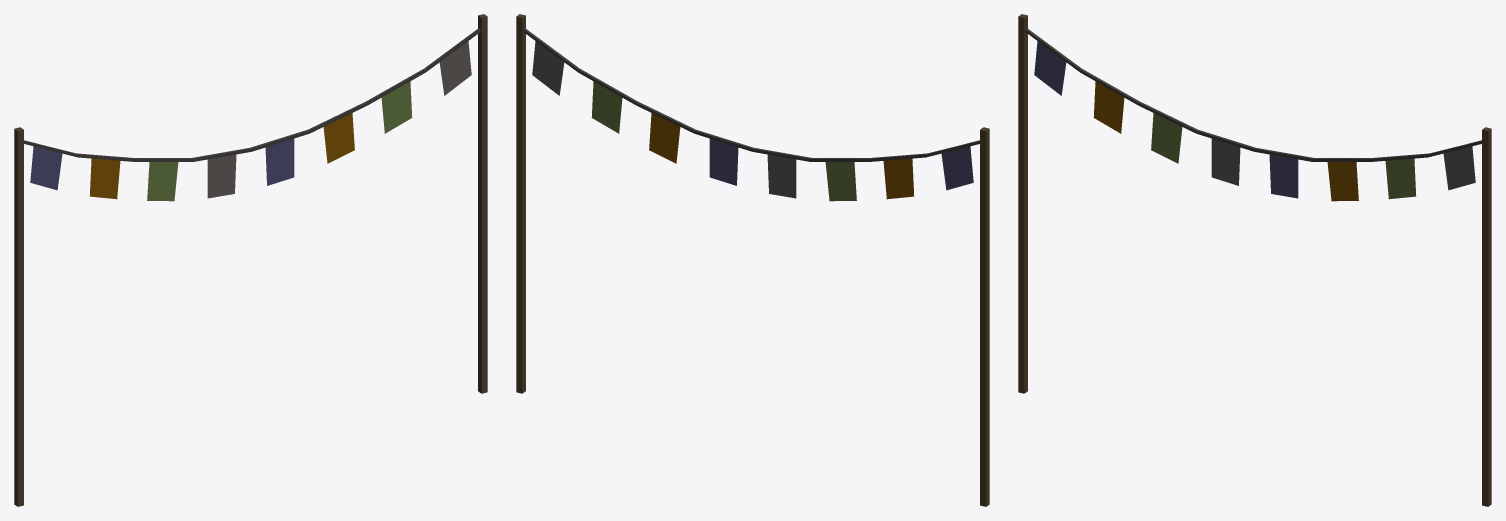
File: PS_Flags01.fbx
3 views of the same model, side by side, from view 1: azimuth 30°, elevation 25°; view 2: azimuth 150°, elevation 25°; view 3: azimuth 330°, elevation 25° (orthographic).
Parts seen in each view (by area): view 1: PS_Flags01; view 2: PS_Flags01; view 3: PS_Flags01.
Part boxes in pixels (x1,y1,x2,y2): PS_Flags01: (14,14,487,506); PS_Flags01: (516,14,989,506); PS_Flags01: (1018,14,1491,506).
Bounding box in the file's own units: 4.05 × 3.1 × 0.0536.
